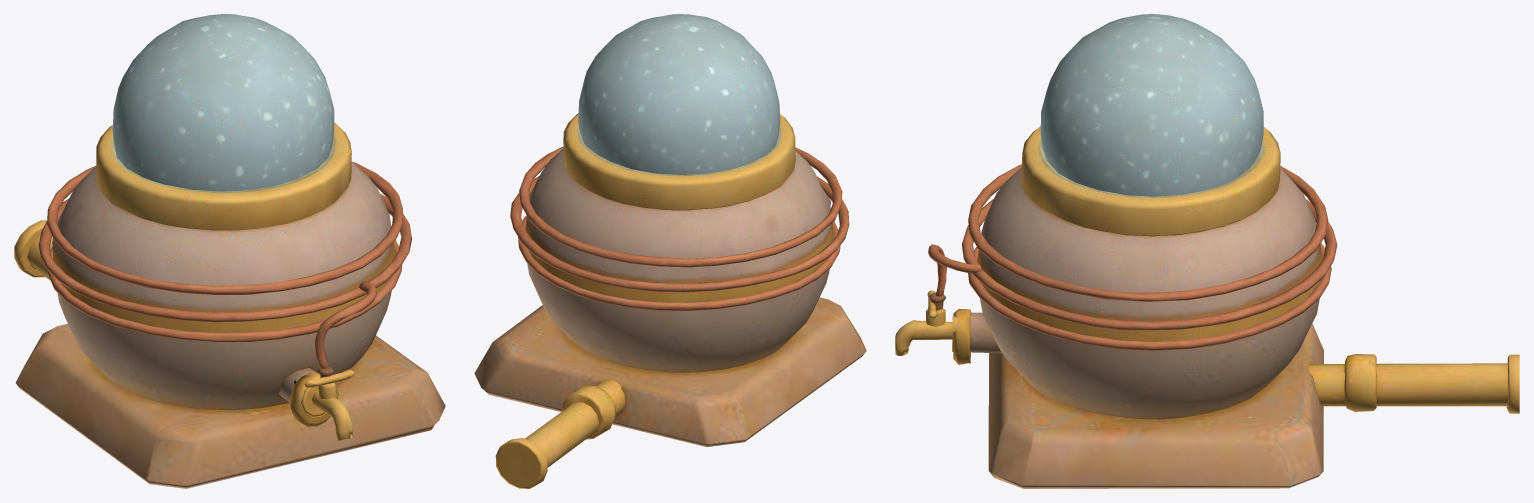
Rendered from desalination-plant.glb.
The picture shows the model from 3 angles, left to right: view 1: azimuth 30°, elevation 25°; view 2: azimuth 150°, elevation 25°; view 3: azimuth 270°, elevation 25°; orthographic projection. The views are drawn at different scales.
Parts seen in each view (by area): view 1: desalination-plant; view 2: desalination-plant; view 3: desalination-plant.
Part boxes in pixels (bbox=[...]): desalination-plant: bbox=[14, 14, 445, 488]; desalination-plant: bbox=[474, 14, 866, 488]; desalination-plant: bbox=[895, 14, 1519, 488].
Size of the model in its own units: 1.24 by 1.38 by 2.
1 material, 1 textured.
